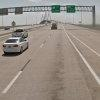cars: (11, 28, 29, 38)
